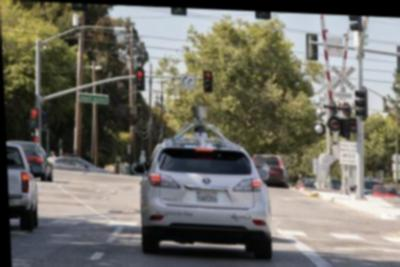License_Plate: (196, 192, 219, 203)
